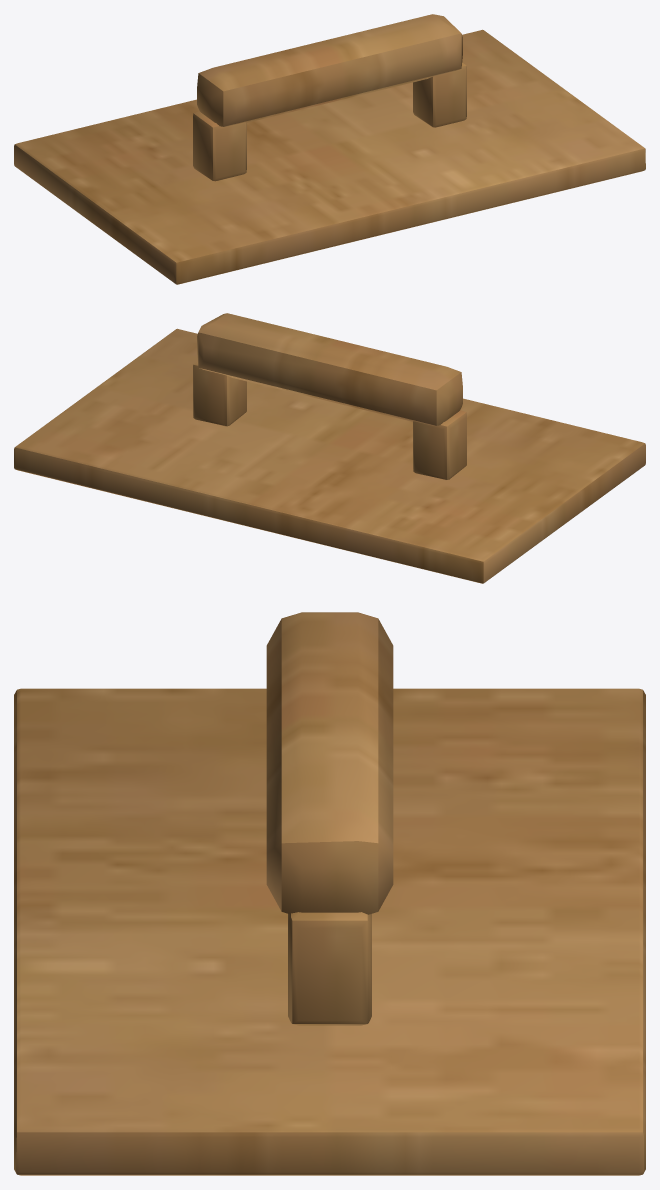
The model's file is EQP-MAO-007_lod1.glb.
3 views of the same model, one above another, from view 1: azimuth 30°, elevation 25°; view 2: azimuth 150°, elevation 25°; view 3: azimuth 270°, elevation 25° (orthographic). The views are drawn at different scales.
Parts seen in each view (by area): view 1: EQP-MAO-007_chapa, EQP-MAO-007_cabo, EQP-MAO-007_apoio-1, EQP-MAO-007_apoio1; view 2: EQP-MAO-007_chapa, EQP-MAO-007_cabo, EQP-MAO-007_apoio-1, EQP-MAO-007_apoio1; view 3: EQP-MAO-007_chapa, EQP-MAO-007_cabo, EQP-MAO-007_apoio1.
Part boxes in pixels (<box>): EQP-MAO-007_chapa: <box>14,29,645,284</box>; EQP-MAO-007_cabo: <box>197,14,462,126</box>; EQP-MAO-007_apoio-1: <box>193,111,246,181</box>; EQP-MAO-007_apoio1: <box>413,62,466,127</box>; EQP-MAO-007_chapa: <box>14,328,645,583</box>; EQP-MAO-007_cabo: <box>197,313,462,425</box>; EQP-MAO-007_apoio-1: <box>413,410,466,479</box>; EQP-MAO-007_apoio1: <box>193,361,246,426</box>; EQP-MAO-007_chapa: <box>14,688,645,1175</box>; EQP-MAO-007_cabo: <box>266,612,393,914</box>; EQP-MAO-007_apoio1: <box>288,912,371,1025</box>.
Bounding box in the file's own units: 0.3 × 0.075 × 0.18.
1 material, 1 textured.
